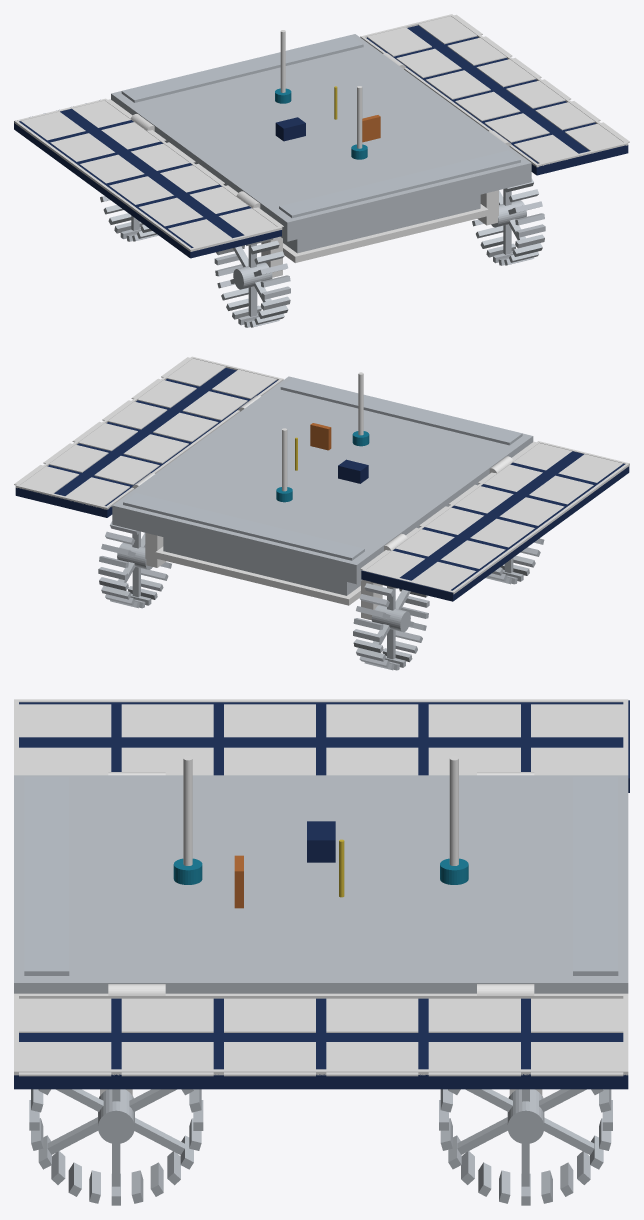
Rendered from main_body.glb.
The picture shows the model from 3 angles, top to bottom: view 1: azimuth 30°, elevation 25°; view 2: azimuth 150°, elevation 25°; view 3: azimuth 270°, elevation 25°; orthographic projection. The views are drawn at different scales.
Visible parts, largest first — view 1: main body, solar panel_left.001, solar panel_right, Cube.001, Cube.002, lower_body, green_base, solar_panel_black.015, solar_panel_black.017, solar_panel_black.019, solar_panel_black.020, solar_panel_black.018 (+28 smaller); view 2: main body, solar panel_left.001, solar panel_right, Cube.002, Cube.001, lower_body, green_base, solar_panel_black.015, solar_panel_black.017, solar_panel_black.018, solar_panel_black.014, solar_panel_black.019 (+28 smaller); view 3: main body, solar panel_right, solar panel_left.001, Cube.001, Cube.002, panel_frame_left_outer.002, solar_panel_black.014, solar_panel_black.015, solar_panel_black.018, solar_panel_black.019, solar_panel_black.020, solar_panel_black.017 (+31 smaller).
Boxes of the visible parts, left/top/right/bottom form: main body: left=111, top=34, right=531, bottom=241; solar panel_left.001: left=14, top=108, right=281, bottom=258; solar panel_right: left=366, top=25, right=628, bottom=175; Cube.001: left=279, top=150, right=520, bottom=218; Cube.002: left=121, top=35, right=363, bottom=102; lower_body: left=283, top=194, right=480, bottom=253; green_base: left=283, top=204, right=488, bottom=262; solar_panel_black.015: left=484, top=113, right=549, bottom=142; solar_panel_black.017: left=455, top=91, right=520, bottom=121; solar_panel_black.019: left=396, top=48, right=461, bottom=77; solar_panel_black.020: left=367, top=27, right=431, bottom=56; solar_panel_black.018: left=426, top=70, right=490, bottom=99; main body: left=112, top=376, right=533, bottom=584; solar panel_left.001: left=361, top=451, right=629, bottom=601; solar panel_right: left=15, top=368, right=277, bottom=517; Cube.002: left=123, top=493, right=364, bottom=560; Cube.001: left=280, top=377, right=522, bottom=445; lower_body: left=163, top=537, right=360, bottom=595; green_base: left=155, top=546, right=360, bottom=605; solar_panel_black.015: left=182, top=391, right=247, bottom=420; solar_panel_black.017: left=153, top=412, right=218, bottom=442; solar_panel_black.018: left=123, top=434, right=188, bottom=463; solar_panel_black.014: left=212, top=369, right=276, bottom=398; solar_panel_black.019: left=94, top=456, right=159, bottom=485; main body: left=14, top=775, right=628, bottom=993; solar panel_right: left=14, top=998, right=628, bottom=1089; solar panel_left.001: left=19, top=700, right=629, bottom=792; Cube.001: left=24, top=776, right=69, bottom=975; Cube.002: left=573, top=776, right=618, bottom=975; panel_frame_left_outer.002: left=14, top=993, right=628, bottom=998; solar_panel_black.014: left=19, top=998, right=111, bottom=1032; solar_panel_black.015: left=121, top=998, right=213, bottom=1032; solar_panel_black.018: left=326, top=998, right=418, bottom=1032; solar_panel_black.019: left=428, top=998, right=520, bottom=1032; solar_panel_black.020: left=531, top=998, right=623, bottom=1032; solar_panel_black.017: left=224, top=998, right=315, bottom=1032.
Bounding box in the file's own units: 4.33 × 1.77 × 3.01.
